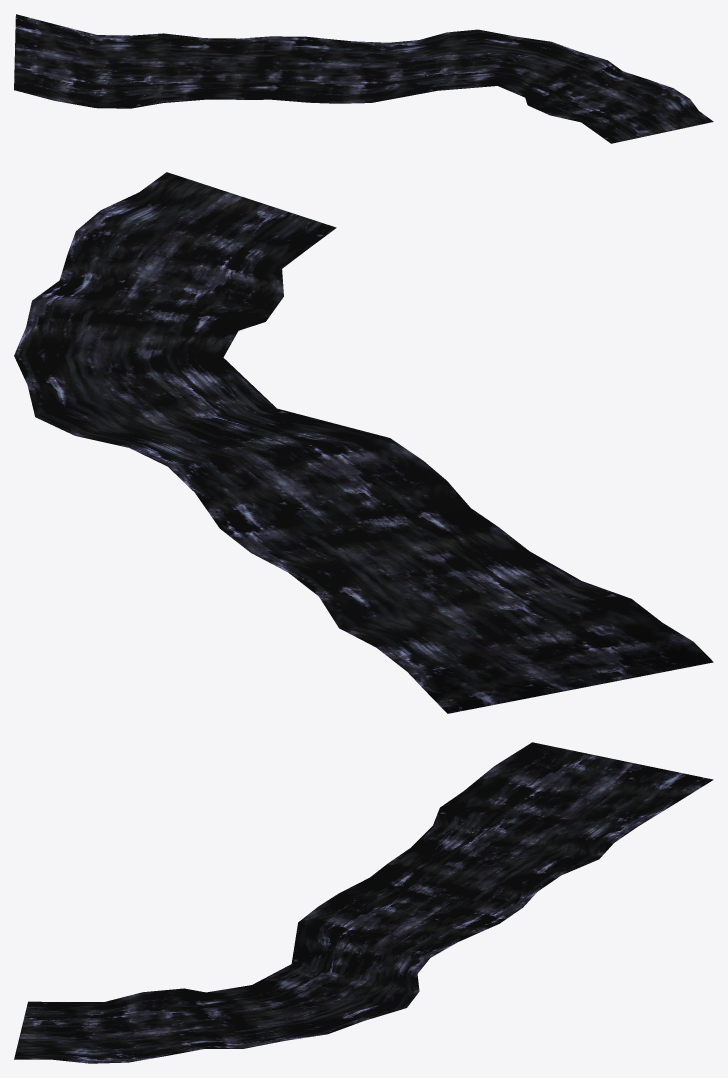
File: water_streaks.fbx
The picture shows the model from 3 angles, top to bottom: view 1: azimuth 30°, elevation 25°; view 2: azimuth 150°, elevation 25°; view 3: azimuth 270°, elevation 25°; orthographic projection. The views are drawn at different scales.
Parts seen in each view (by area): view 1: water_streaks; view 2: water_streaks; view 3: water_streaks.
Boxes of the visible parts, x1,y1,x2,y2 form: water_streaks: (14,14,713,143); water_streaks: (14,172,713,713); water_streaks: (14,742,713,1063).
Bounding box in the file's own units: 48.74 × 1.72 × 45.81.
